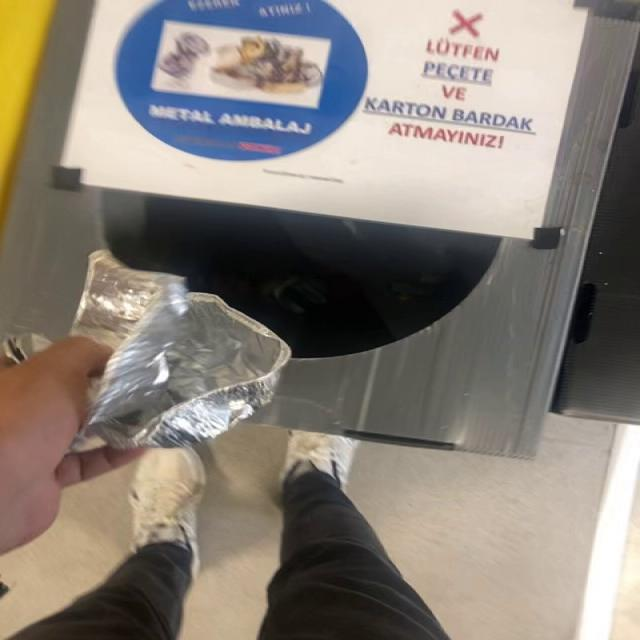metal: (69, 250, 291, 449)
